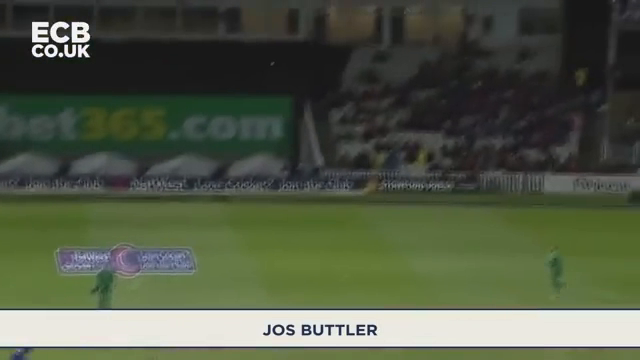fielder: (542, 240, 574, 298)
